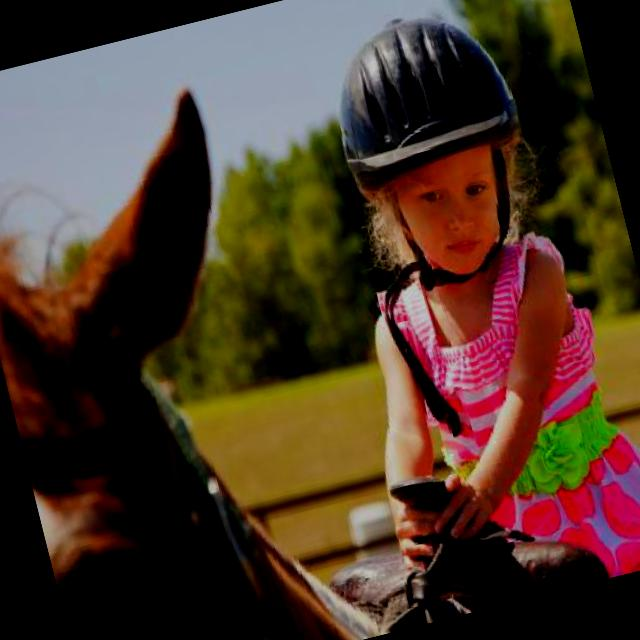Person: (270, 0, 640, 626)
